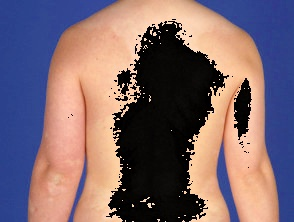vitiligo: (25, 0, 248, 222)
